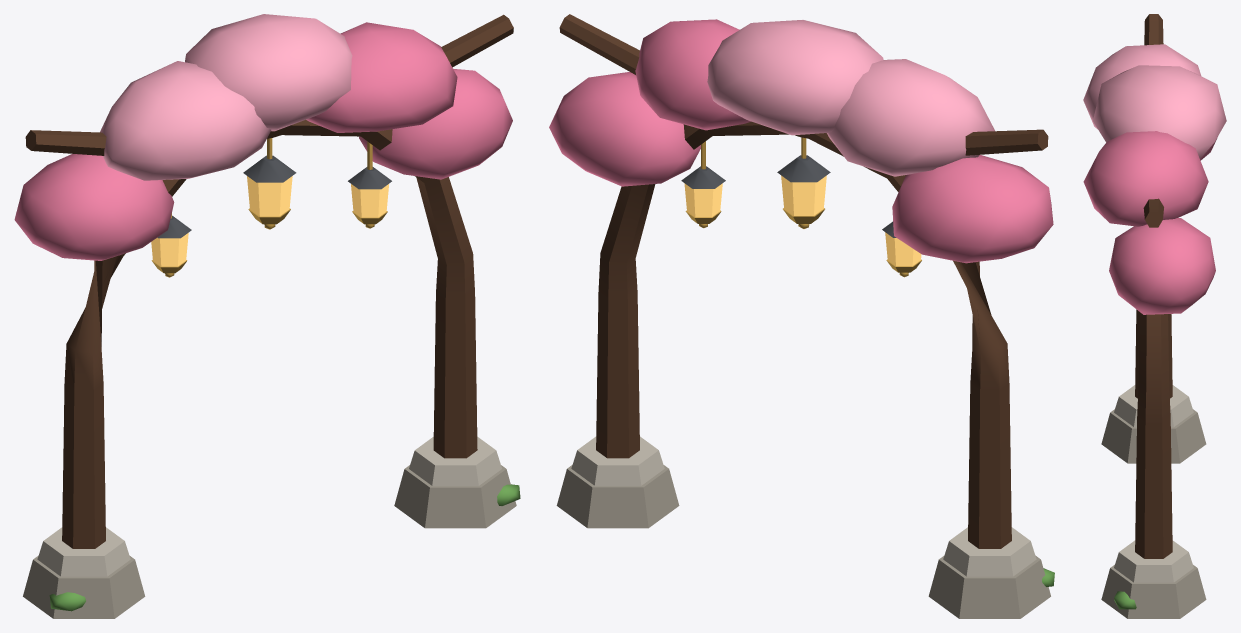
The model's file is lantern-arch.glb.
3 views of the same model, side by side, from view 1: azimuth 30°, elevation 25°; view 2: azimuth 150°, elevation 25°; view 3: azimuth 270°, elevation 25° (orthographic). The views are drawn at different scales.
Visible parts, largest first — view 1: Part_BlossomMid, Part_BlossomLight, Part_TimberDark, Part_StoneMid, Part_StoneLight, Part_WindowGlow, Part_Iron, Part_Brass, Part_Moss; view 2: Part_BlossomMid, Part_BlossomLight, Part_TimberDark, Part_StoneMid, Part_StoneLight, Part_WindowGlow, Part_Iron, Part_Brass; view 3: Part_BlossomMid, Part_BlossomLight, Part_TimberDark, Part_StoneMid, Part_StoneLight, Part_Moss.
Part boxes in pixels (x1,y1,x2,y2): Part_BlossomMid: [14, 22, 512, 260]; Part_BlossomLight: [100, 14, 352, 180]; Part_TimberDark: [25, 14, 513, 548]; Part_StoneMid: [23, 465, 516, 618]; Part_StoneLight: [37, 436, 501, 576]; Part_WindowGlow: [151, 176, 388, 266]; Part_Iron: [157, 155, 391, 238]; Part_Brass: [151, 138, 387, 277]; Part_Moss: [49, 484, 520, 611]; Part_BlossomMid: [549, 19, 1053, 263]; Part_BlossomLight: [707, 20, 994, 176]; Part_TimberDark: [559, 14, 1048, 548]; Part_StoneMid: [556, 465, 1050, 618]; Part_StoneLight: [571, 436, 1036, 576]; Part_WindowGlow: [684, 175, 921, 266]; Part_Iron: [681, 155, 896, 237]; Part_Brass: [685, 137, 921, 277]; Part_BlossomMid: [1083, 131, 1217, 314]; Part_BlossomLight: [1083, 44, 1226, 158]; Part_TimberDark: [1135, 14, 1172, 558]; Part_StoneMid: [1101, 409, 1206, 618]; Part_StoneLight: [1114, 385, 1193, 582]; Part_Moss: [1114, 591, 1136, 609].
Size of the model in its own units: 3.27 by 3.4 by 0.9834.
